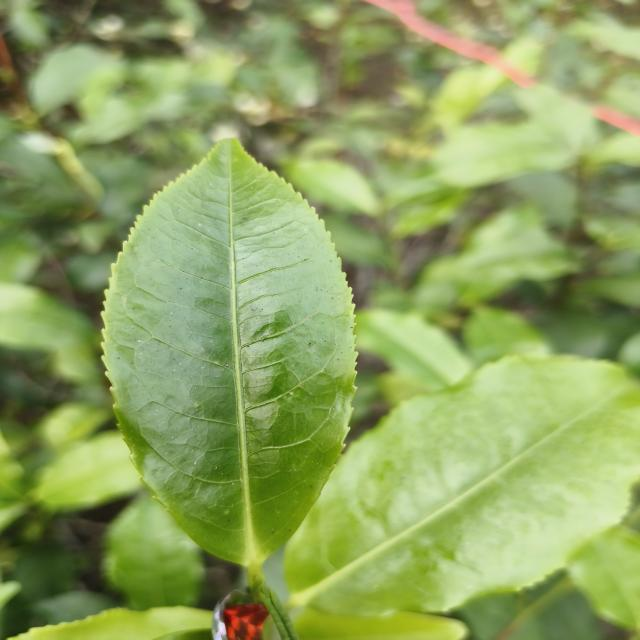Leaf: (104, 139, 355, 571), (285, 355, 640, 615), (105, 492, 204, 610), (0, 283, 98, 382), (356, 309, 472, 388), (32, 430, 141, 511), (433, 124, 569, 186), (568, 526, 640, 630), (30, 43, 115, 114), (287, 159, 380, 216), (463, 307, 550, 364)
